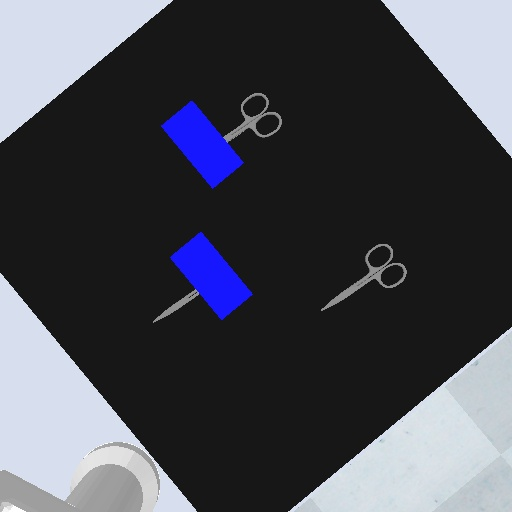tijera: (319, 241, 410, 314), (220, 90, 287, 145), (151, 286, 201, 325)
